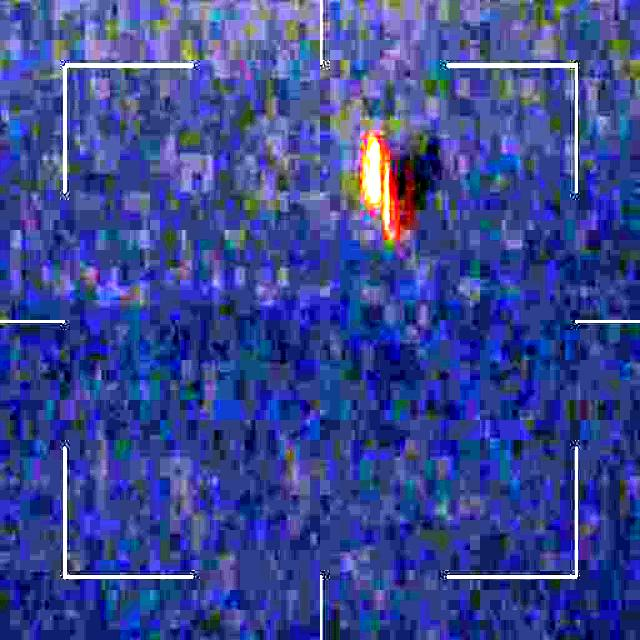bird: (360, 131, 450, 236)
